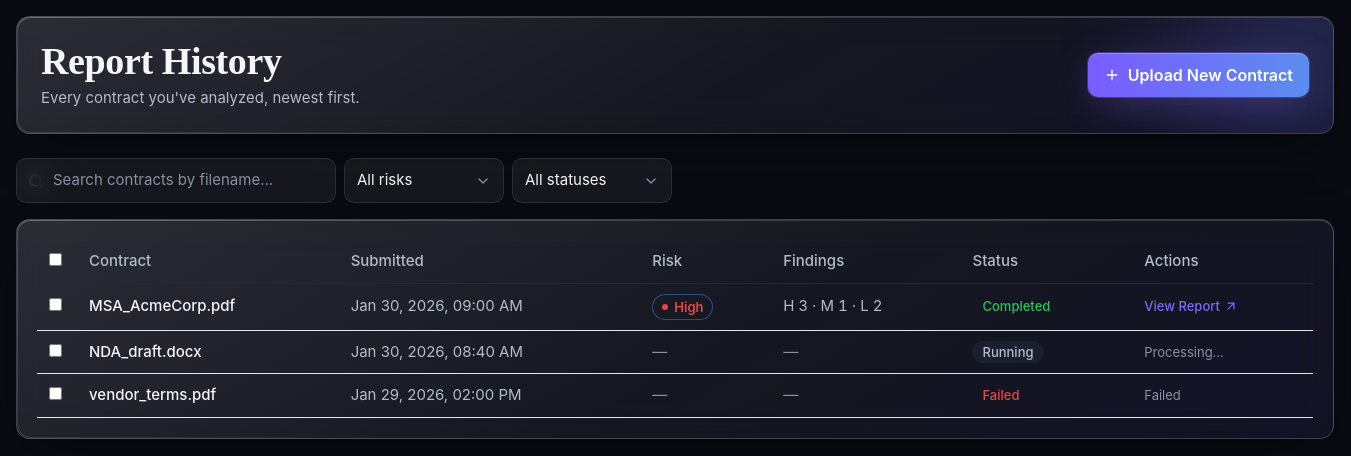
Test case: ReportHistoryView (spec 021) › parity: status filter narrows rows client-side
Check: the link "MSA_AcmeCorp.pdf" is shown, box [89, 296, 235, 315]
Custom glass Dropdown: open the trigger, then pick the option.
Click the button with aria-label "filter by status". click: point(592, 181)
box: [512, 158, 672, 203]
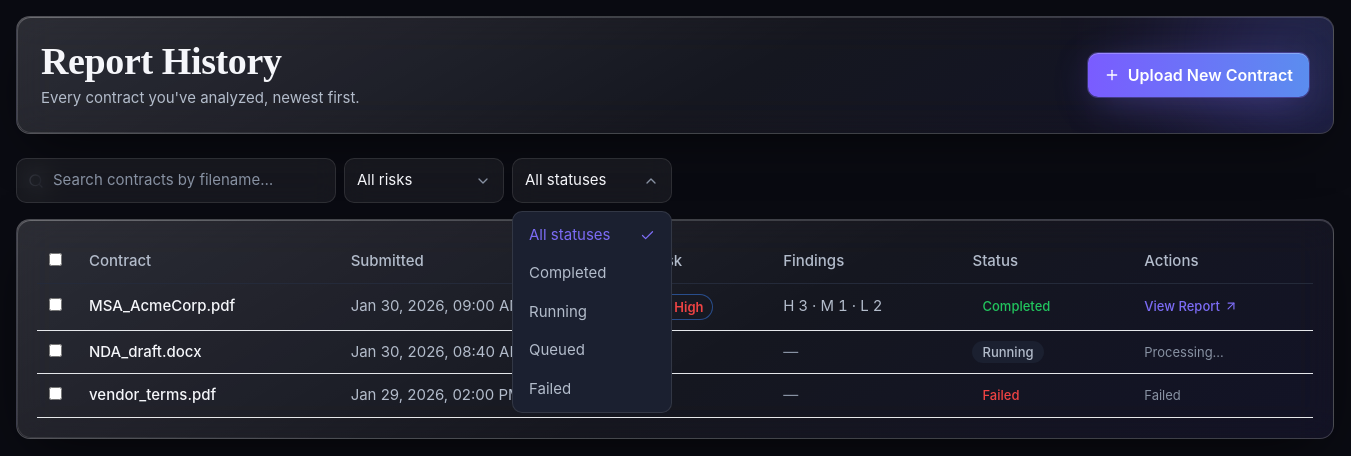
Click the option "Failed". click: point(592, 389)
box: [517, 370, 667, 408]
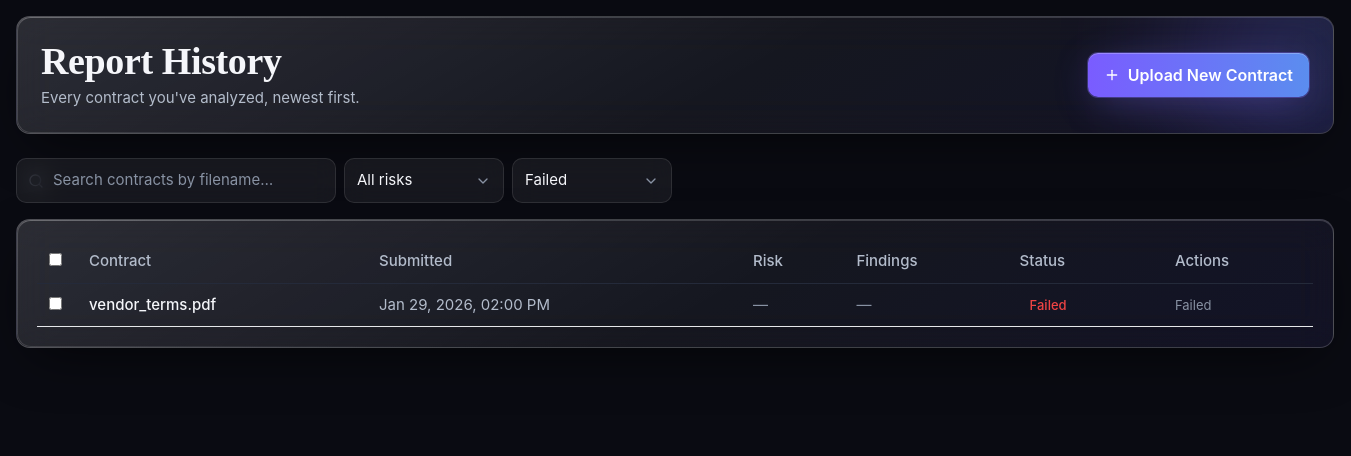
Check: the text "vendor_terms.pdf" is shown, box [89, 294, 216, 313]
Check: the link "MSA_AcmeCorp.pdf" is gone
Check: the text "NDA_draft.docx" is gone
